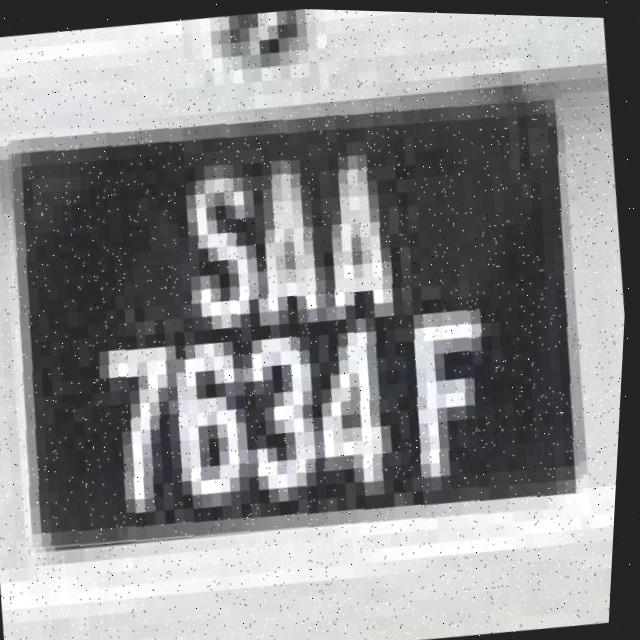LicensePlate: (0, 68, 612, 569)
